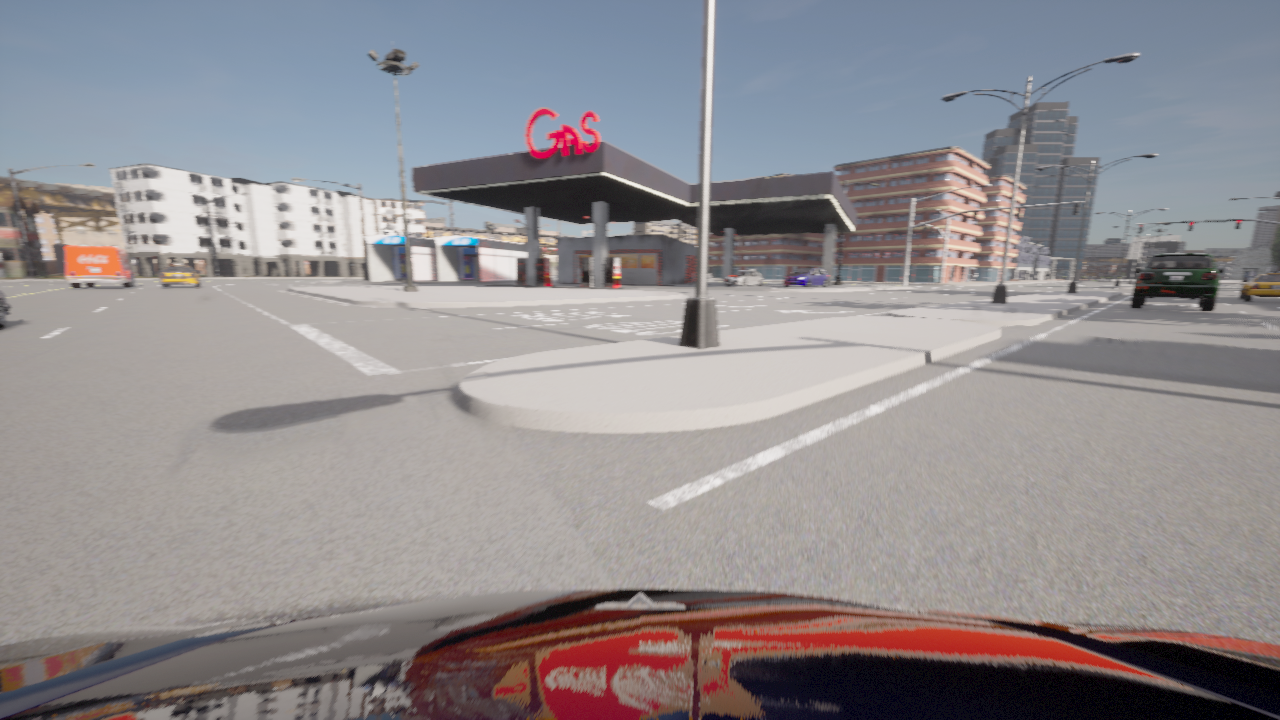cyclist: (0, 588, 1279, 719), (1130, 253, 1223, 311), (64, 247, 135, 288), (1239, 271, 1279, 300), (160, 264, 200, 287), (783, 268, 828, 287), (725, 270, 762, 286)
